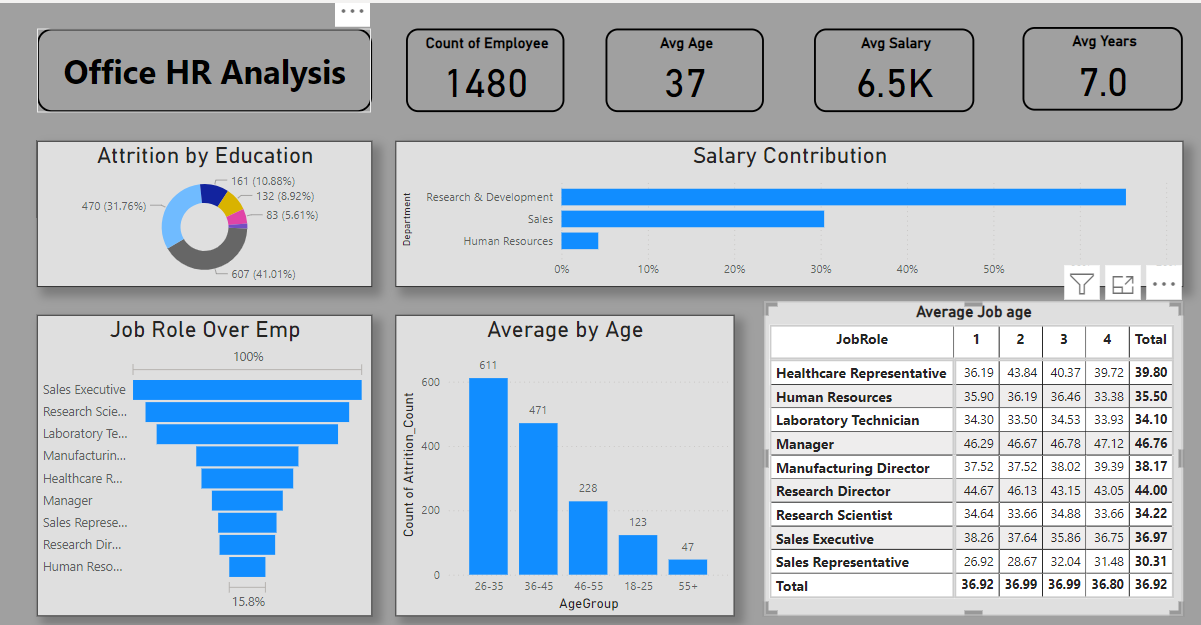

Layout of this report page (visuals, bound fields, positions):
{"tool":"powerbi","page":{"name":"Page 1","canvas":[1280,720],"ordinal":0},"visuals":[{"type":"card","title":"Count of Employee","fields":{"Values":["CountNonNull(HR_Analytics.EmpID)"]},"box":[432.8,85,168.2,88.8],"z":0},{"type":"card","title":"Avg Age","fields":{"Values":["Avg(HR_Analytics.Age)"]},"box":[644.4,85,168.2,88.8],"z":1000},{"type":"card","title":"Avg Salary","fields":{"Values":["Avg(HR_Analytics.MonthlyIncome)"]},"box":[865.5,85,170.1,88.8],"z":2000},{"type":"card","title":"Avg Years","fields":{"Values":["Avg(HR_Analytics.YearsAtCompany)"]},"box":[1086.6,83.2,170.1,88.8],"z":3000},{"type":"donutChart","title":"Attrition by Education","fields":{"Y":["CountNonNull(HR_Analytics.Attrition_Count)"],"Category":["HR_Analytics.EducationField"]},"box":[41.6,204.1,355.3,155],"z":4000},{"type":"columnChart","title":"Average by Age","fields":{"Category":["HR_Analytics.AgeGroup"],"Y":["CountNonNull(HR_Analytics.Attrition_Count)"]},"box":[421.4,387.4,359.1,319.4],"z":5000},{"type":"pivotTable","title":"Average Job age","fields":{"Rows":["HR_Analytics.JobRole"],"Values":["Avg(HR_Analytics.Age)"],"Columns":["HR_Analytics.JobSatisfaction"]},"box":[812.6,374.2,444.1,332.6],"z":6000},{"type":"clusteredBarChart","title":"Salary Contribution","fields":{"Category":["HR_Analytics.Department"],"Y":["Divide(CountNonNull(HR_Analytics.SalarySlab), ScopedEval(CountNonNull(HR_Analytics.SalarySlab), []))"]},"box":[421.4,204.1,835.3,155],"z":7000},{"type":"funnel","title":"Job Role Over Emp","fields":{"Category":["HR_Analytics.JobRole"],"Y":["CountNonNull(HR_Analytics.EmployeeCount)"]},"box":[41.6,387.4,355.3,319.4],"z":8000},{"type":"shape","box":[41.6,85,355.3,88.8],"z":9000}]}

Visuals, with their boxes on the page's 1280x720 design canvas (x1, y1, x2, y2). These are canvas units, not pixel positions in the 1201x625 screenshot, which may show the page scaled, cropped or inside an application window:
"Count of Employee" card: [x1=433, y1=85, x2=601, y2=174]
"Avg Age" card: [x1=644, y1=85, x2=813, y2=174]
"Avg Salary" card: [x1=866, y1=85, x2=1036, y2=174]
"Avg Years" card: [x1=1087, y1=83, x2=1257, y2=172]
"Attrition by Education" donutChart: [x1=42, y1=204, x2=397, y2=359]
"Average by Age" columnChart: [x1=421, y1=387, x2=780, y2=707]
"Average Job age" pivotTable: [x1=813, y1=374, x2=1257, y2=707]
"Salary Contribution" clusteredBarChart: [x1=421, y1=204, x2=1257, y2=359]
"Job Role Over Emp" funnel: [x1=42, y1=387, x2=397, y2=707]
shape: [x1=42, y1=85, x2=397, y2=174]
